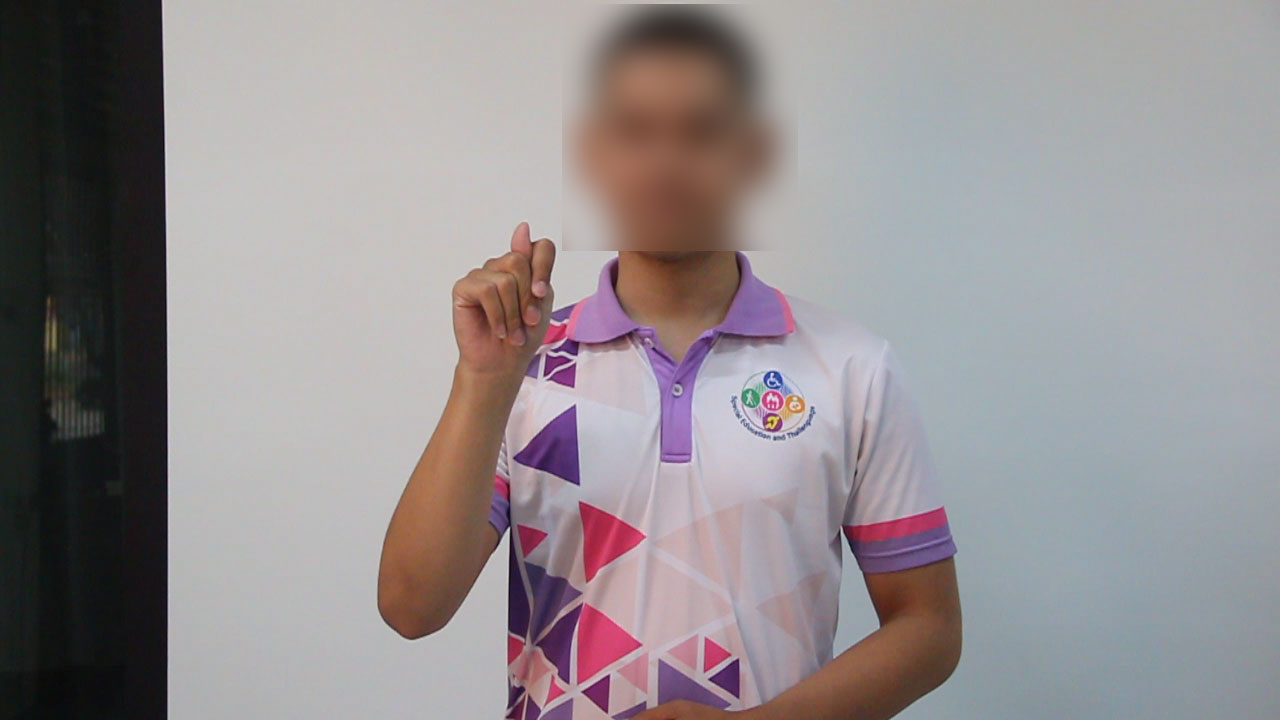tor: (438, 211, 568, 385)
